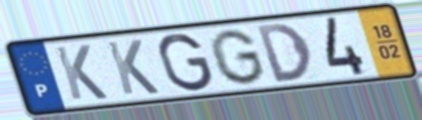4: (324, 15, 367, 78)
D: (253, 20, 315, 85)
G: (155, 31, 215, 94), (207, 28, 269, 87)
K: (52, 43, 111, 103), (103, 38, 163, 97)
